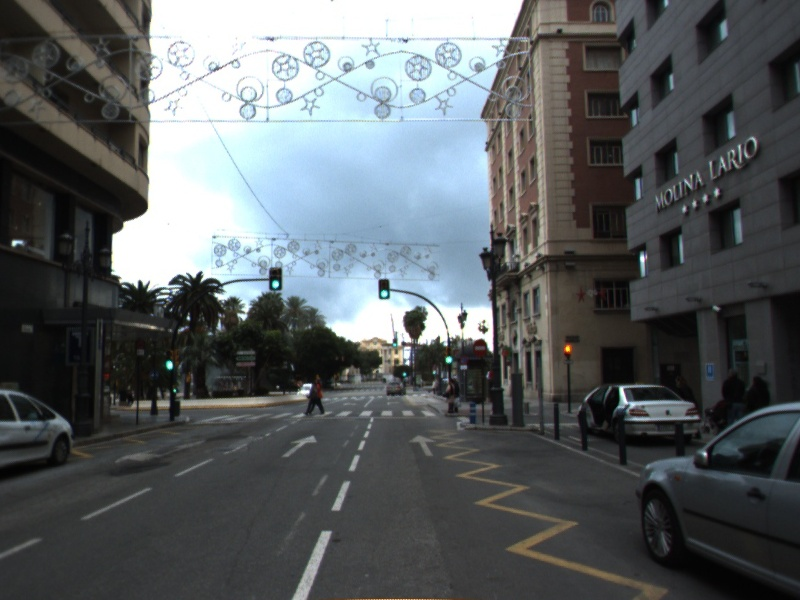STRAIGHT: (280, 433, 319, 459), (407, 433, 439, 458)
STRAIGHT_LEFT: (113, 438, 207, 465)
